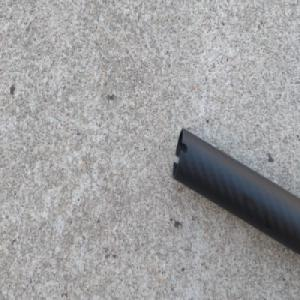LuggagePart: (170, 127, 300, 259)
